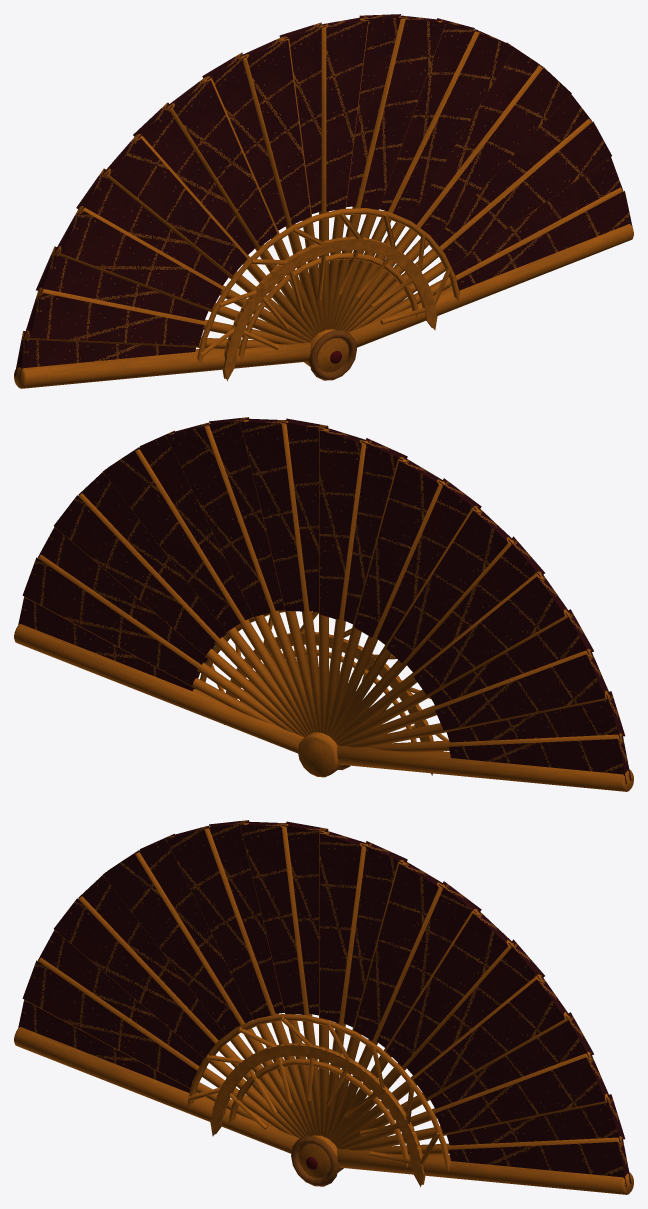
File: open_folding_fan_LOD1.glb
3 renders of one model, top to bottom at view 1: azimuth 30°, elevation 25°; view 2: azimuth 150°, elevation 25°; view 3: azimuth 330°, elevation 25°, orthographic.
Parts seen in each view (by area): view 1: Worn burgundy folded panel 18, Worn burgundy folded panel 20, Worn burgundy folded panel 14, Worn burgundy folded panel 16, Worn burgundy folded panel 12, Worn burgundy folded panel 10, Worn burgundy folded panel 8, Worn burgundy folded panel 6, Heavy carved guard stick -1, Worn burgundy folded panel 4, Worn burgundy folded panel 2, Heavy carved guard stick 1 (+37 smaller); view 2: Heavy carved guard stick 1, Worn burgundy folded panel 11, Worn burgundy folded panel 19, Worn burgundy folded panel 17, Worn burgundy folded panel 13, Worn burgundy folded panel 15, Worn burgundy folded panel 9, Worn burgundy folded panel 7, Worn burgundy folded panel 1, Worn burgundy folded panel 5, Worn burgundy folded panel 3, Heavy carved guard stick -1 (+34 smaller); view 3: Worn burgundy folded panel 10, Worn burgundy folded panel 2, Worn burgundy folded panel 4, Worn burgundy folded panel 8, Worn burgundy folded panel 6, Worn burgundy folded panel 12, Worn burgundy folded panel 14, Worn burgundy folded panel 16, Worn burgundy folded panel 20, Worn burgundy folded panel 18, Heavy carved guard stick -1, Heavy carved guard stick 1 (+37 smaller).
Boxes of the visible parts, x1,y1,x2,y2 form: Worn burgundy folded panel 18: [55, 207, 222, 309]; Worn burgundy folded panel 20: [24, 289, 204, 345]; Worn burgundy folded panel 14: [168, 77, 277, 246]; Worn burgundy folded panel 16: [105, 135, 247, 275]; Worn burgundy folded panel 12: [242, 36, 310, 224]; Worn burgundy folded panel 10: [321, 17, 368, 211]; Worn burgundy folded panel 8: [360, 15, 445, 209]; Worn burgundy folded panel 6: [393, 29, 514, 219]; Heavy carved guard stick -1: [14, 342, 310, 388]; Worn burgundy folded panel 4: [421, 64, 571, 239]; Worn burgundy folded panel 2: [443, 121, 611, 266]; Heavy carved guard stick 1: [348, 224, 633, 347]; Heavy carved guard stick 1: [14, 624, 303, 753]; Worn burgundy folded panel 11: [319, 427, 366, 620]; Worn burgundy folded panel 19: [435, 651, 609, 730]; Worn burgundy folded panel 17: [414, 573, 569, 694]; Worn burgundy folded panel 13: [354, 457, 443, 637]; Worn burgundy folded panel 15: [386, 507, 512, 662]; Worn burgundy folded panel 9: [240, 418, 304, 611]; Worn burgundy folded panel 7: [166, 422, 270, 616]; Worn burgundy folded panel 1: [22, 557, 199, 685]; Worn burgundy folded panel 5: [103, 447, 240, 632]; Worn burgundy folded panel 3: [54, 495, 215, 655]; Heavy carved guard stick -1: [337, 745, 633, 791]; Worn burgundy folded panel 10: [319, 830, 366, 1023]; Worn burgundy folded panel 2: [435, 1054, 609, 1133]; Worn burgundy folded panel 4: [414, 976, 569, 1097]; Worn burgundy folded panel 8: [354, 860, 443, 1040]; Worn burgundy folded panel 6: [386, 910, 512, 1065]; Worn burgundy folded panel 12: [240, 821, 304, 1014]; Worn burgundy folded panel 14: [166, 825, 270, 1019]; Worn burgundy folded panel 16: [103, 850, 240, 1034]; Worn burgundy folded panel 20: [22, 960, 197, 1088]; Worn burgundy folded panel 18: [54, 898, 215, 1057]; Heavy carved guard stick -1: [14, 1027, 299, 1153]; Heavy carved guard stick 1: [337, 1148, 633, 1194].
Size of the model in its own units: 0.6162 by 0.3351 by 0.0363.
Materials: 4 (4 with a texture image).
